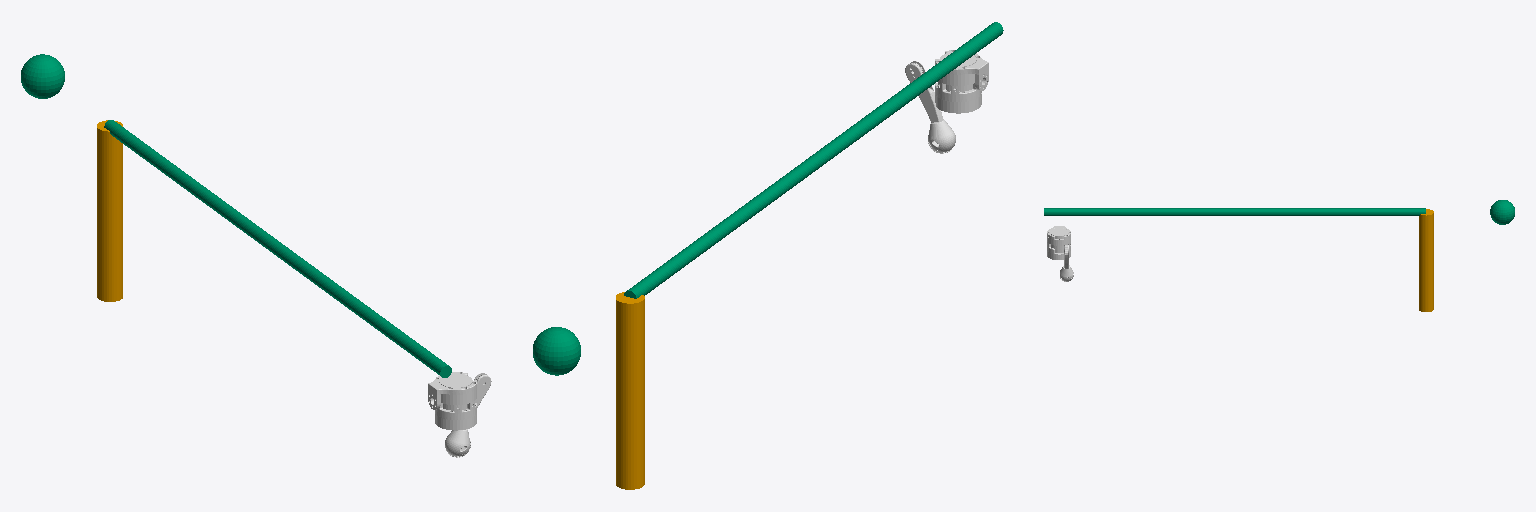
The robot description file, URDF, robot "Final2DOFLeg":
<?xml version="1.0" encoding="utf-8"?>
<!-- This URDF was automatically created by SolidWorks to URDF Exporter! Originally created by Stephen Brawner (brawner@gmail.com) 
     Commit Version: 1.6.0-4-g7f85cfe  Build Version: 1.6.7995.38578
     For more information, please see http://wiki.ros.org/sw_urdf_exporter -->
<robot
  name="Final2DOFLeg">
  <!-- ===== Planar rig (horizontal rail + vertical slider) + upright mount (added for Isaac Lab) =====
       slider_base (bolted to the ground by fix_base=True)
         └─ pz_x  (prismatic, horizontal, no motor)      the body can move forward / back
             └─ rail_link  (rail carriage)
                 └─ pz_z  (prismatic, vertical, no motor) the body can move up / down
                     └─ mount_link  (slider carriage; its mass is set by the env to the leg's share of the dog)
                         └─ mount_joint (fixed)  flips the SolidWorks leg down and turns the hip housing 90 deg so its bracket faces backward
                             └─ base_link -> hip_joint -> hip_link -> knee_joint -> knee_link -> foot_joint -> foot_link
       Standing pose hip 0.80 / knee 0.85: foot ~0.36 m below the carriage, ~4 cm ahead of the hip. -->
    <!-- ===== Radial boom planarizer (added for Isaac Lab) =====
       radius 1.5 m, boom 2.0 kg, counterweight 6.8 kg at 0.3 m behind the post,
       pivot 0.42 m above the ground (the leg's carriage starts at this height). -->
  <link name="post_base">
    <inertial>
      <origin xyz="0 0 0" rpy="0 0 0" />
      <mass value="5.0" />
      <inertia ixx="0.01" ixy="0" ixz="0" iyy="0.01" iyz="0" izz="0.01" />
    </inertial>
    <visual>
      <origin xyz="0 0 0.21" rpy="0 0 0" />
      <geometry><cylinder radius="0.03" length="0.42" /></geometry>
    </visual>
  </link>
  <joint name="pz_yaw" type="continuous">
    <!-- boom swings around the post: tip speed = radius x yaw rate = the leg's forward speed -->
    <origin xyz="0 0 0.42" rpy="0 0 0" />
    <parent link="post_base" />
    <child link="yaw_link" />
    <axis xyz="0 0 1" />
    <limit effort="1000" velocity="20" />
    <dynamics damping="0.01" friction="0" />
  </joint>
  <link name="yaw_link">
    <inertial>
      <origin xyz="0 0 0" rpy="0 0 0" />
      <mass value="0.1" />
      <inertia ixx="0.0001" ixy="0" ixz="0" iyy="0.0001" iyz="0" izz="0.0001" />
    </inertial>
  </link>
  <joint name="pz_pitch" type="revolute">
    <!-- boom tilts: +pitch lowers the tip. +-0.35 rad = about +-0.52 m of vertical travel -->
    <origin xyz="0 0 0" rpy="0 0 0" />
    <parent link="yaw_link" />
    <child link="boom_link" />
    <axis xyz="1 0 0" />
    <limit lower="-0.35" upper="0.35" effort="1000" velocity="20" />
    <dynamics damping="0.01" friction="0" />
  </joint>
  <link name="boom_link">
    <inertial>
      <origin xyz="0 0.061364 0" rpy="0 0 0" />
      <mass value="8.8" />
      <inertia ixx="2.078864" ixy="0" ixz="0" iyy="0.0001" iyz="0" izz="2.078864" />
    </inertial>
    <visual>
      <origin xyz="0 -0.75 0" rpy="1.5708 0 0" />
      <geometry><cylinder radius="0.015" length="1.5" /></geometry>
    </visual>
    <visual>
      <origin xyz="0 0.3 0" rpy="0 0 0" />
      <geometry><sphere radius="0.05" /></geometry>
    </visual>
  </link>
  <joint name="pz_level" type="revolute">
    <!-- parallelogram linkage: held at -pz_pitch by the env (stiff PD), so the leg stays upright -->
    <origin xyz="0 -1.5 0" rpy="0 0 0" />
    <parent link="boom_link" />
    <child link="mount_link" />
    <axis xyz="1 0 0" />
    <limit lower="-0.44999999999999996" upper="0.44999999999999996" effort="1000" velocity="20" />
    <dynamics damping="0.01" friction="0" />
  </joint>
  <!-- ===== end of boom ===== -->
  <link
    name="mount_link">
    <inertial>
      <origin
        xyz="0 0 0"
        rpy="0 0 0" />
      <!-- carriage mass [kg]: what slides with the leg, besides the leg itself -->
      <mass
        value="0.3" />
      <inertia
        ixx="0.0002"
        ixy="0"
        ixz="0"
        iyy="0.0002"
        iyz="0"
        izz="0.0002" />
    </inertial>
  </link>
  <joint
    name="mount_joint"
    type="fixed">
    <origin
      xyz="-0.0966388 0 -0.0924512"
      rpy="0 -1.57079633 3.14159265" />
    <parent
      link="mount_link" />
    <child
      link="base_link" />
  </joint>
  <!-- ===== end of slider + mount ===== -->
  <link
    name="base_link">
    <inertial>
      <origin
        xyz="-0.00209272945441707 -0.0277965428996201 0.0925222486082806"
        rpy="0 0 0" />
      <mass
        value="1.2141" />
      <inertia
        ixx="0.000663950610918829"
        ixy="9.4219855577499E-10"
        ixz="2.33277489506231E-08"
        iyy="0.0011452434919686"
        iyz="-7.88002131246359E-06"
        izz="0.000691045221300687" />
    </inertial>
    <visual>
      <origin
        xyz="0 0 0"
        rpy="0 0 0" />
      <geometry>
        <mesh
          filename="meshes/base_link.STL" />
      </geometry>
      <material
        name="">
        <color
          rgba="0.894117647058823 0.894117647058823 0.894117647058823 1" />
      </material>
    </visual>
    <collision>
      <origin
        xyz="0 0 0"
        rpy="0 0 0" />
      <geometry>
        <mesh
          filename="meshes/base_link.STL" />
      </geometry>
    </collision>
  </link>
  <link
    name="hip_link">
    <inertial>
      <origin
        xyz="0.0270911304848116 0.00172750200180527 0.0407661723793313"
        rpy="0 0 0" />
      <mass
        value="0.4513" />
      <inertia
        ixx="0.00108427222094374"
        ixy="-6.51455258055474E-07"
        ixz="1.10807923883418E-05"
        iyy="0.000945693860573861"
        iyz="-2.87991807203583E-05"
        izz="0.00016050938076455" />
    </inertial>
    <visual>
      <origin
        xyz="0 0 0"
        rpy="0 0 0" />
      <geometry>
        <mesh
          filename="meshes/hip_link.STL" />
      </geometry>
      <material
        name="">
        <color
          rgba="0.894117647058823 0.894117647058823 0.894117647058823 1" />
      </material>
    </visual>
    <collision>
      <origin
        xyz="0 0 0"
        rpy="0 0 0" />
      <geometry>
        <mesh
          filename="meshes/hip_link.STL" />
      </geometry>
    </collision>
  </link>
  <joint
    name="hip_joint"
    type="revolute">
    <origin
      xyz="-0.0020938 -0.057691 0.094545"
      rpy="0 0 -1.5708" />
    <parent
      link="base_link" />
    <child
      link="hip_link" />
    <axis
      xyz="-1 0 0" />
    <limit
      lower="-1" 
      upper="1.5708"
      effort="18.25"
      velocity="38.01327" />
    <dynamics
      damping="0.05"
      friction="0.15" />
  </joint>
  <link
    name="knee_link">
    <inertial>
      <origin
        xyz="-0.0257284730177028 -0.0613468633471308 0.00143940427590555"
        rpy="0 0 0" />
      <mass
        value="0.1560" />
      <inertia
        ixx="0.000203249864498884"
        ixy="-7.5071031665616E-05"
        ixz="-6.39888261406597E-08"
        iyy="4.29625416149345E-05"
        iyz="-1.52540265163357E-07"
        izz="0.00023823169107691" />
    </inertial>
    <visual>
      <origin
        xyz="0 0 0"
        rpy="0 0 0" />
      <geometry>
        <mesh
          filename="meshes/knee_link.STL" />
      </geometry>
      <material
        name="">
        <color
          rgba="0.894117647058823 0.894117647058823 0.894117647058823 1" />
      </material>
    </visual>
    <collision>
      <origin
        xyz="0 0 0"
        rpy="0 0 0" />
      <geometry>
        <mesh
          filename="meshes/knee_link.STL" />
      </geometry>
    </collision>
  </link>
  <joint
    name="knee_joint"
    type="revolute">
    <origin
      xyz="0.03081 0.0011539 0.14605"
      rpy="-1.5708 -0.066975 1.5708" />
    <parent
      link="hip_link" />
    <child
      link="knee_link" />
    <axis
      xyz="0 0 -1" />
    <limit
      lower="0.5"
      upper="2.70"
      effort="18.25"
      velocity="38.01327" />
      <dynamics
      damping="0.05"
      friction="0.15" />
  </joint>
  <link
    name="foot_link">
    <inertial>
      <origin
        xyz="0.00338758384704163 -0.0809553137341198 0.365094789939327"
        rpy="0 0 0" />
      <mass
        value="0.2285" />
      <inertia
        ixx="8.00200005467144E-05"
        ixy="-2.80624834469874E-08"
        ixz="-2.55491577657738E-06"
        iyy="8.42770712083732E-05"
        iyz="6.43190853132161E-09"
        izz="6.91553299557649E-05" />
    </inertial>
    <visual>
      <origin
        xyz="0 0 0"
        rpy="0 0 0" />
      <geometry>
        <mesh
          filename="meshes/foot_link.STL" />
      </geometry>
      <material
        name="">
        <color
          rgba="0.894117647058823 0.894117647058823 0.894117647058823 1" />
      </material>
    </visual>
    <collision>
      <origin xyz="0.0060 -0.0810 0.3686" rpy="0 0 0" />
      <geometry>     
        <sphere radius="0.025" />
      </geometry>
    </collision>
  </link>
  <joint
    name="foot_joint"
    type="fixed">
    <origin
      xyz="0.075476 0.2007 0.082436"
      rpy="1.5708 0 -0.3597" />
    <parent
      link="knee_link" />
    <child
      link="foot_link" />
  </joint>
</robot>

--- Facts derived from the render (not from the file) ---
Views: 3 orthographic renders of the robot side by side, from view 1: azimuth 30°, elevation 25°; view 2: azimuth 150°, elevation 25°; view 3: azimuth 270°, elevation 25°.
Robot: Final2DOFLeg — 8 links, 7 joints (4 revolute, 1 continuous, 2 fixed); root link post_base; default pose: joints at zero except 1 at the middle of their limits (knee_joint = 1.6).
Links seen in each view (by area): view 1: boom_link, post_base, hip_link, foot_link; view 2: boom_link, post_base, hip_link, knee_link, foot_link; view 3: boom_link, post_base, hip_link.
Boxes of the visible links, left/top/right/bottom form: boom_link: left=21, top=54, right=451, bottom=377; post_base: left=97, top=120, right=122, bottom=301; hip_link: left=428, top=372, right=476, bottom=430; foot_link: left=445, top=429, right=470, bottom=457; boom_link: left=533, top=22, right=1003, bottom=375; post_base: left=616, top=292, right=644, bottom=489; hip_link: left=935, top=50, right=988, bottom=113; knee_link: left=905, top=61, right=942, bottom=122; foot_link: left=928, top=119, right=955, bottom=153; boom_link: left=1044, top=200, right=1514, bottom=224; post_base: left=1419, top=209, right=1433, bottom=311; hip_link: left=1047, top=226, right=1070, bottom=259.
Bounding box of the posed robot: 0.213 × 1.85 × 0.47 m (x, y, z).
Meshes: 4 distinct files referenced, 3 mesh visuals loaded (3 binary STL); not drawn: 1 (reference not matched to a file when rendering).
